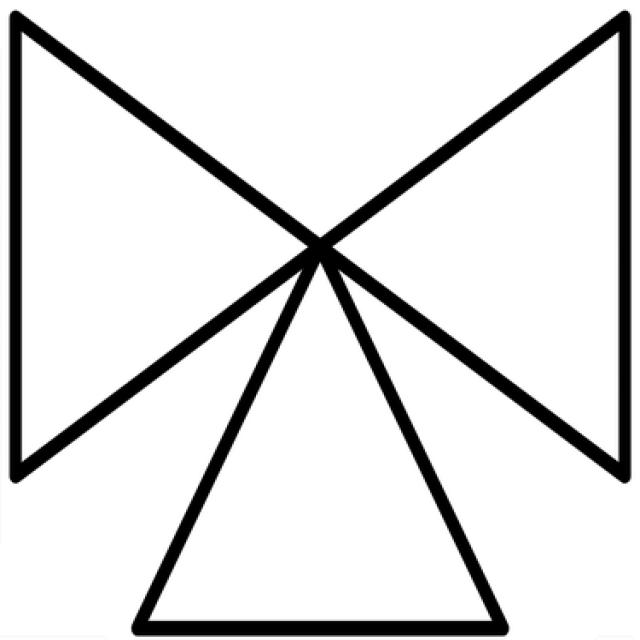3-way Valve: (137, 18, 626, 629), (15, 13, 319, 479)
